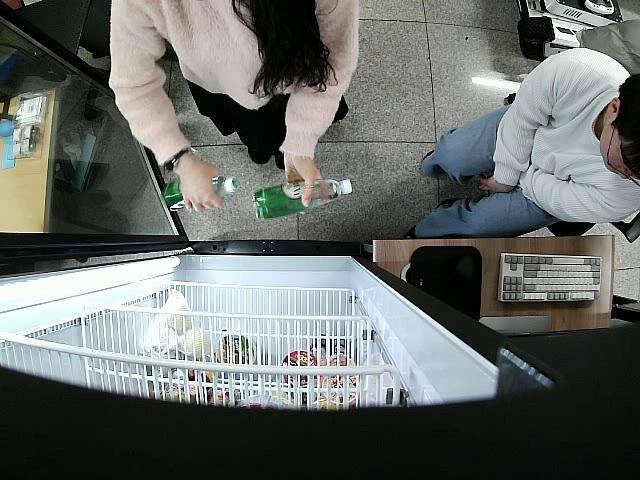00_hand: (181, 158, 227, 212), (284, 158, 326, 207)
18_trevi: (254, 179, 353, 217), (162, 173, 238, 212)
